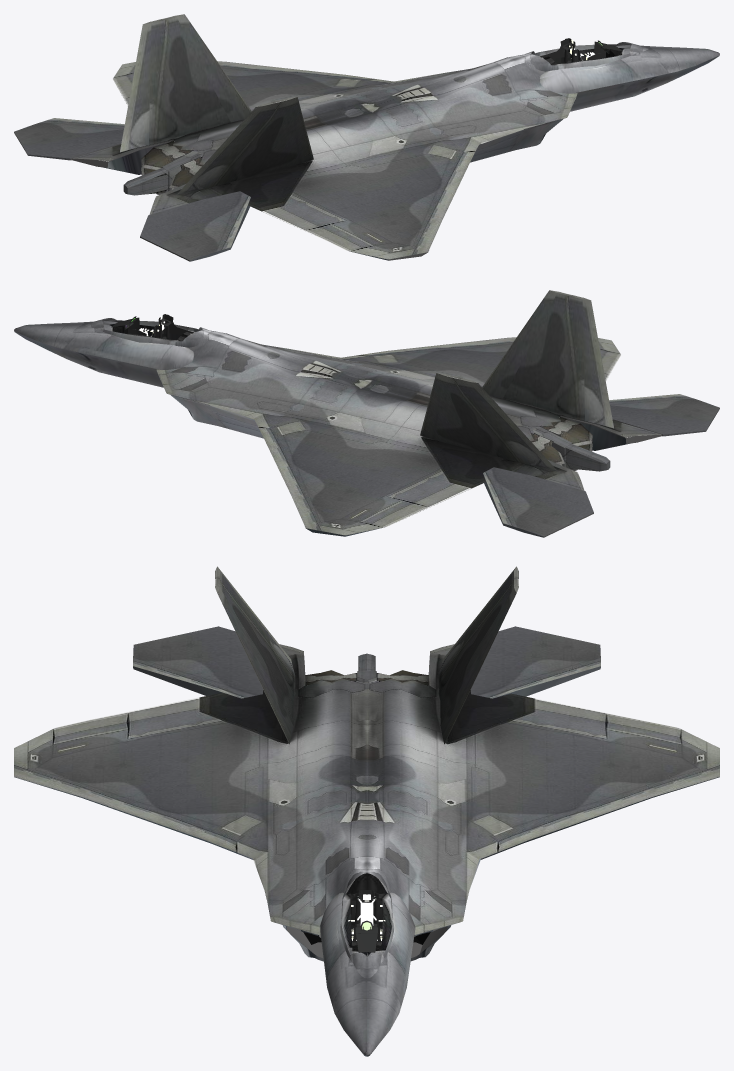
3 renders of one model, top to bottom at view 1: azimuth 30°, elevation 25°; view 2: azimuth 150°, elevation 25°; view 3: azimuth 270°, elevation 25°, orthographic. The views are drawn at different scales.
Visible parts, largest first — view 1: f22-airframe (×7); view 2: f22-airframe (×7); view 3: f22-airframe (×5).
Part boxes in pixels (x1=…): f22-airframe (×7): x1=14, y1=14, x2=719, y2=261; f22-airframe (×7): x1=14, y1=290, x2=719, y2=537; f22-airframe (×5): x1=14, y1=566, x2=719, y2=1055.
Size of the model in its own units: 12.11 by 2.59 by 8.79.
Materials: 16 (7 with a texture image).
